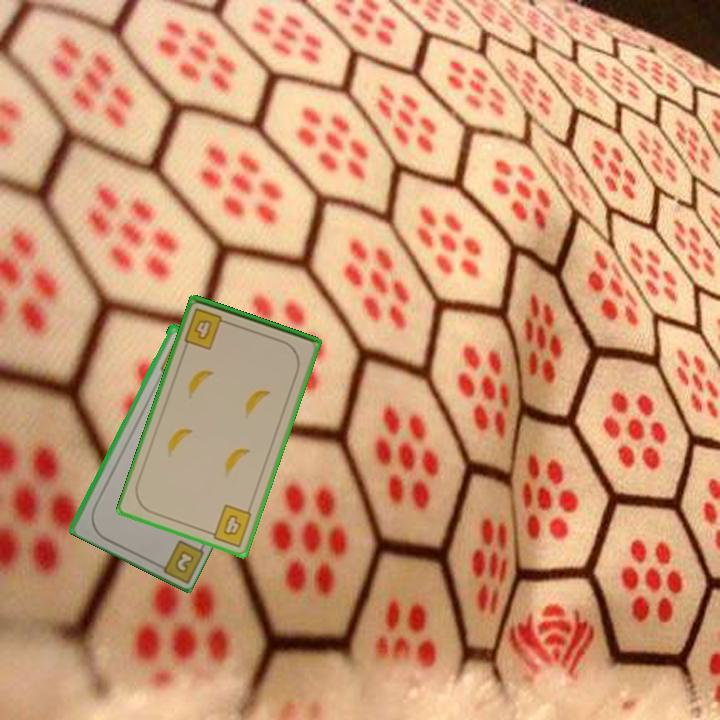2b: (150, 536, 206, 583)
4b: (180, 304, 233, 352), (204, 501, 255, 550)
